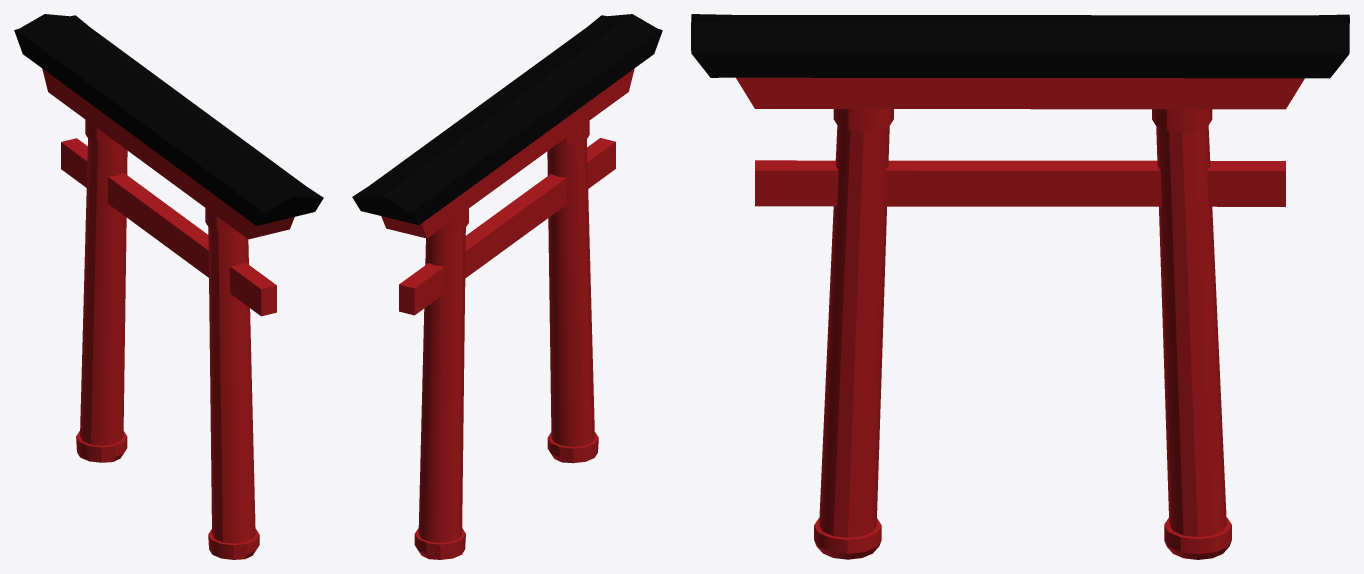
File: Torii2.fbx
The picture shows the model from 3 angles, left to right: view 1: azimuth 30°, elevation 25°; view 2: azimuth 150°, elevation 25°; view 3: azimuth 270°, elevation 25°; orthographic projection. The views are drawn at different scales.
Visible parts, largest first — view 1: Cube, Cylinder, Cylinder.001, Cube.002; view 2: Cube, Cylinder.001, Cylinder, Cube.002; view 3: Cube, Cylinder.001, Cylinder, Cube.002.
Part boxes in pixels (bbox=[...]): Cube: bbox=[14, 14, 323, 239]; Cylinder: bbox=[205, 208, 259, 559]; Cylinder.001: bbox=[76, 120, 127, 462]; Cube.002: bbox=[61, 138, 276, 316]; Cube: bbox=[352, 14, 662, 238]; Cylinder.001: bbox=[414, 208, 468, 559]; Cylinder: bbox=[547, 121, 598, 463]; Cube.002: bbox=[399, 138, 615, 315]; Cube: bbox=[691, 14, 1349, 109]; Cylinder.001: bbox=[1152, 109, 1231, 559]; Cylinder: bbox=[814, 109, 893, 559]; Cube.002: bbox=[755, 160, 1285, 206].
Size of the model in its own units: 62.77 by 383 by 435.
